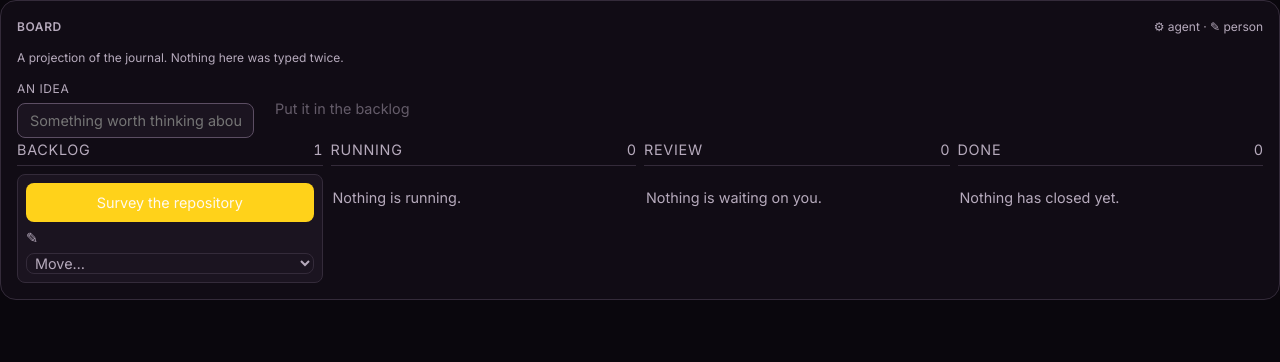
Test: confirmed is not the same as reconciled › a successful move whose refetch does not bring the row says the card is unconfirmed
Select "Running" in the dropdown with class "task-card-move" at [170, 263], box [26,253,314,274]
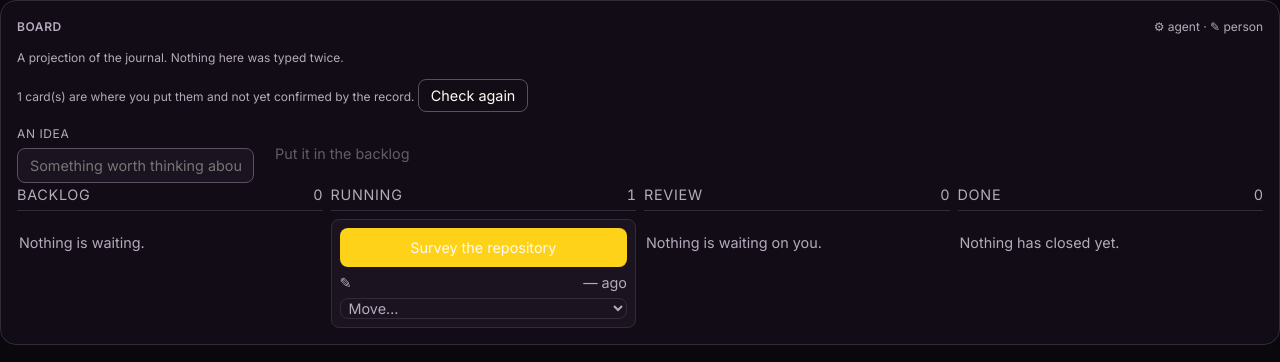
Result: the element with test id "board-unconfirmed" is shown at [17,79,528,112]
Result: the element with test id "board-unconfirmed" shows "not yet confirmed" at [17,89,414,104]
